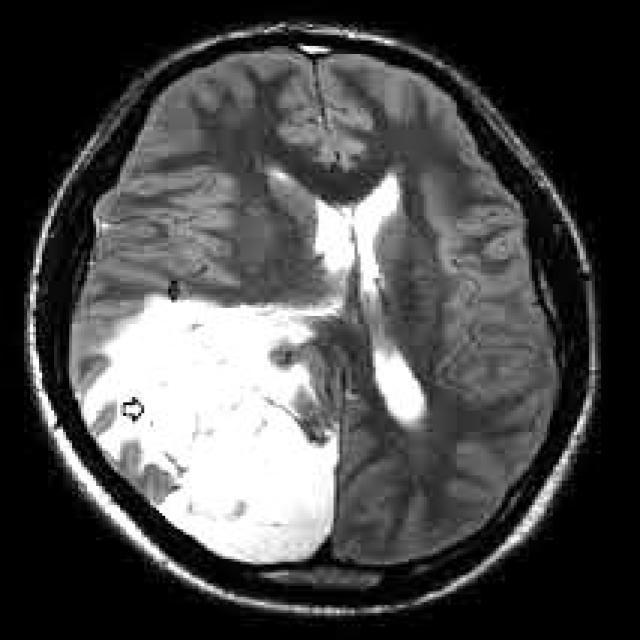brain tumor: (72, 292, 349, 570)
